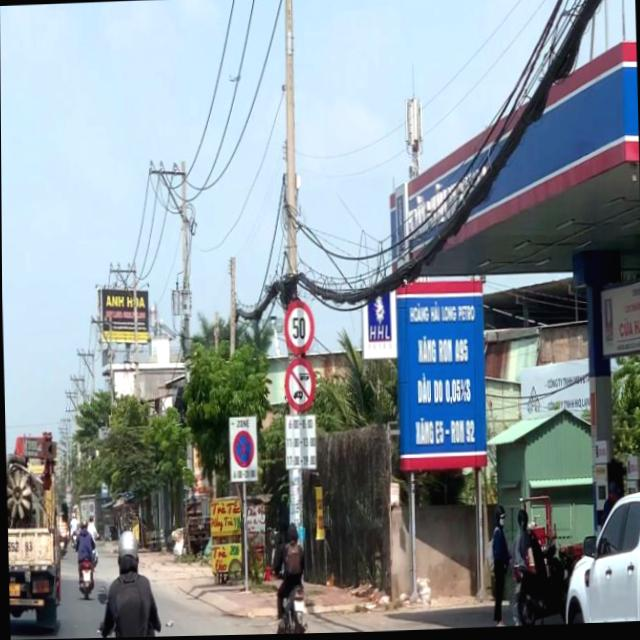Cam dung xe va do xe: (230, 430, 255, 469)
Toc do toi da cho phep: (283, 299, 314, 356)
